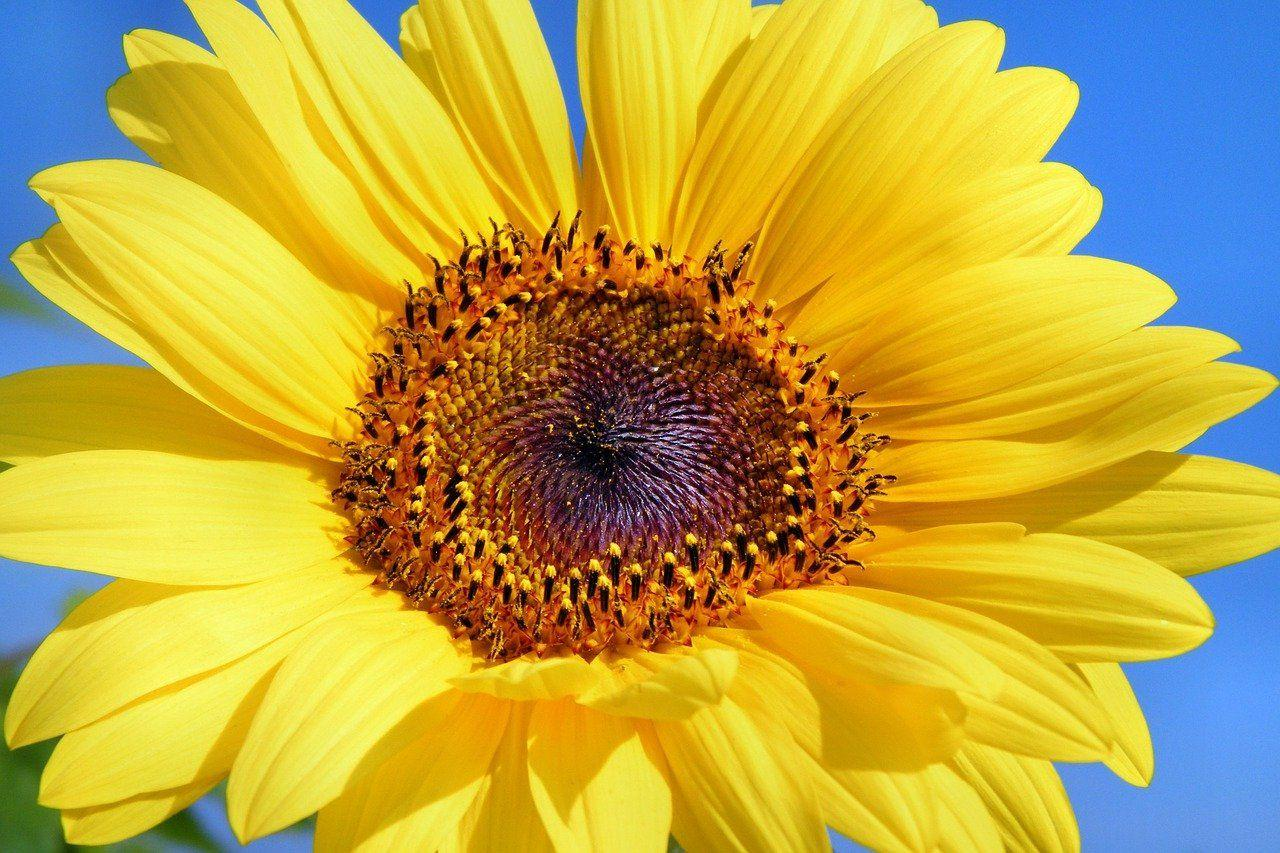sunflowers: (22, 7, 1170, 853)
